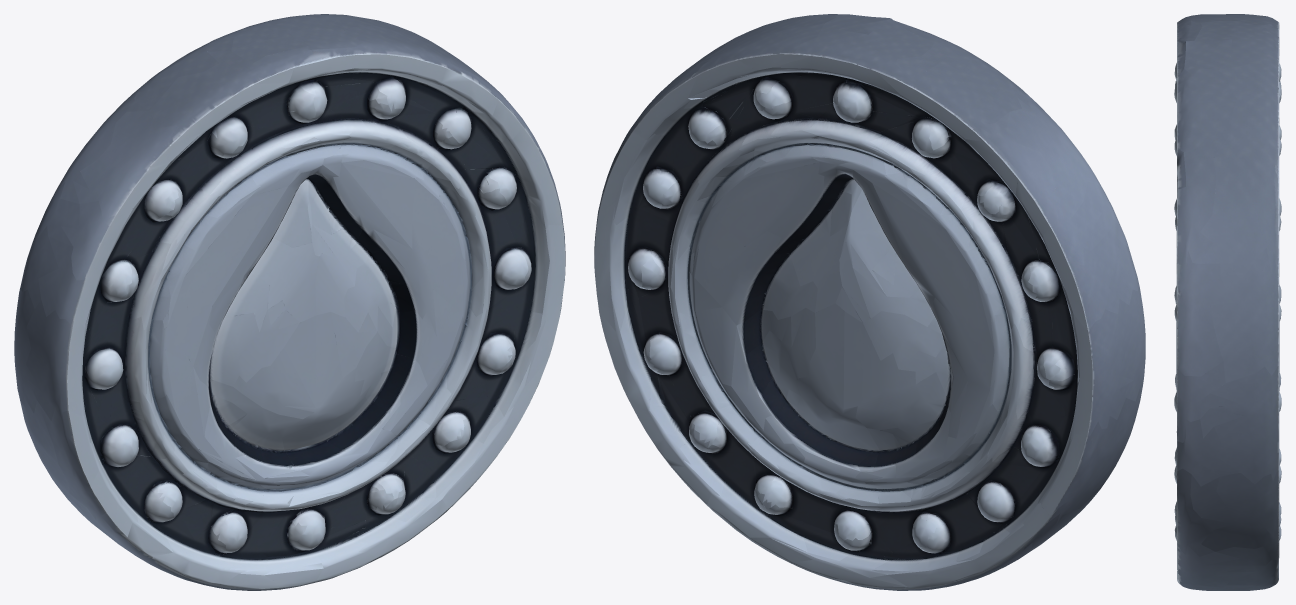
Rendered from silver_coin.glb.
The picture shows the model from 3 angles, left to right: view 1: azimuth 30°, elevation 25°; view 2: azimuth 150°, elevation 25°; view 3: azimuth 270°, elevation 25°; orthographic projection. The views are drawn at different scales.
Size of the model in its own units: 1.89 by 1.9 by 0.3525.
1 material, 1 textured.
